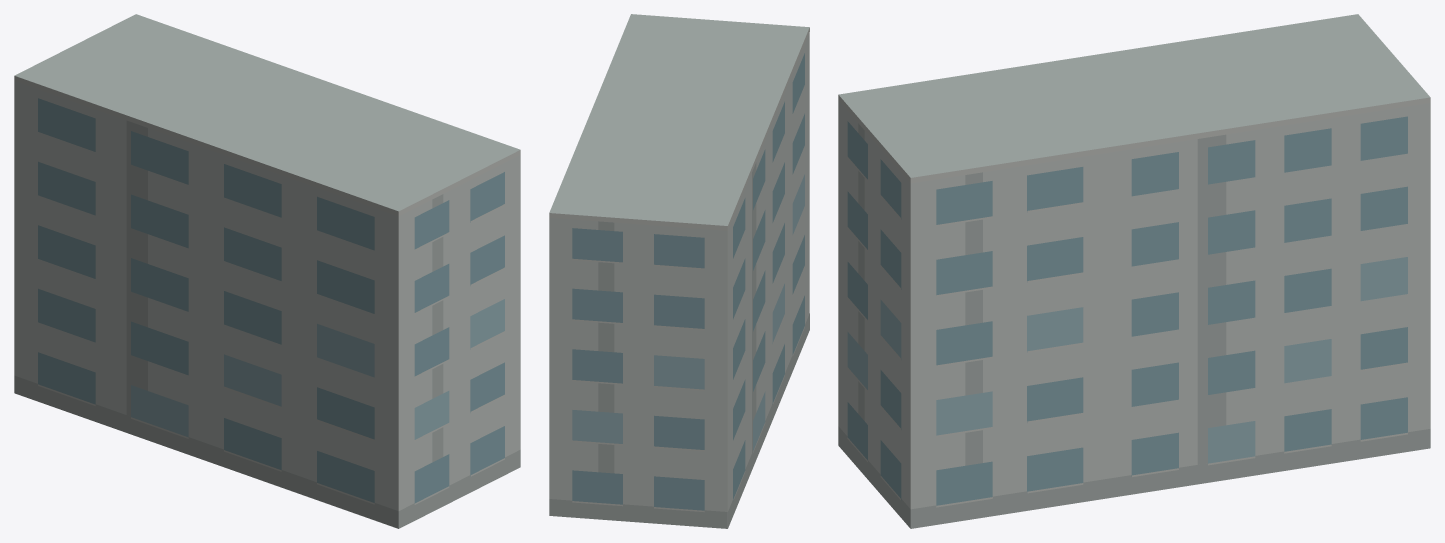
File: residential-c3cdf9ce-d0d6-47b1-97e1-bd01c5cc1a0f.glb
3 renders of one model, left to right at view 1: azimuth 30°, elevation 25°; view 2: azimuth 150°, elevation 25°; view 3: azimuth 270°, elevation 25°, orthographic. The views are drawn at different scales.
Parts seen in each view (by area): view 1: residential-c3cdf9ce-d0d6-47b1-97e1-bd01c5cc1a0f.tmp; view 2: residential-c3cdf9ce-d0d6-47b1-97e1-bd01c5cc1a0f.tmp; view 3: residential-c3cdf9ce-d0d6-47b1-97e1-bd01c5cc1a0f.tmp.
Boxes of the visible parts, bbox=[...] form: residential-c3cdf9ce-d0d6-47b1-97e1-bd01c5cc1a0f.tmp: bbox=[14, 14, 520, 528]; residential-c3cdf9ce-d0d6-47b1-97e1-bd01c5cc1a0f.tmp: bbox=[549, 14, 809, 528]; residential-c3cdf9ce-d0d6-47b1-97e1-bd01c5cc1a0f.tmp: bbox=[838, 14, 1430, 528].
Size of the model in its own units: 15.29 by 15.25 by 23.33.
